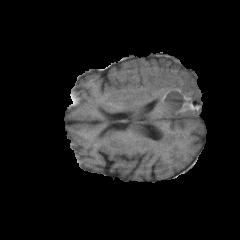glioma: (109, 60, 201, 143)
